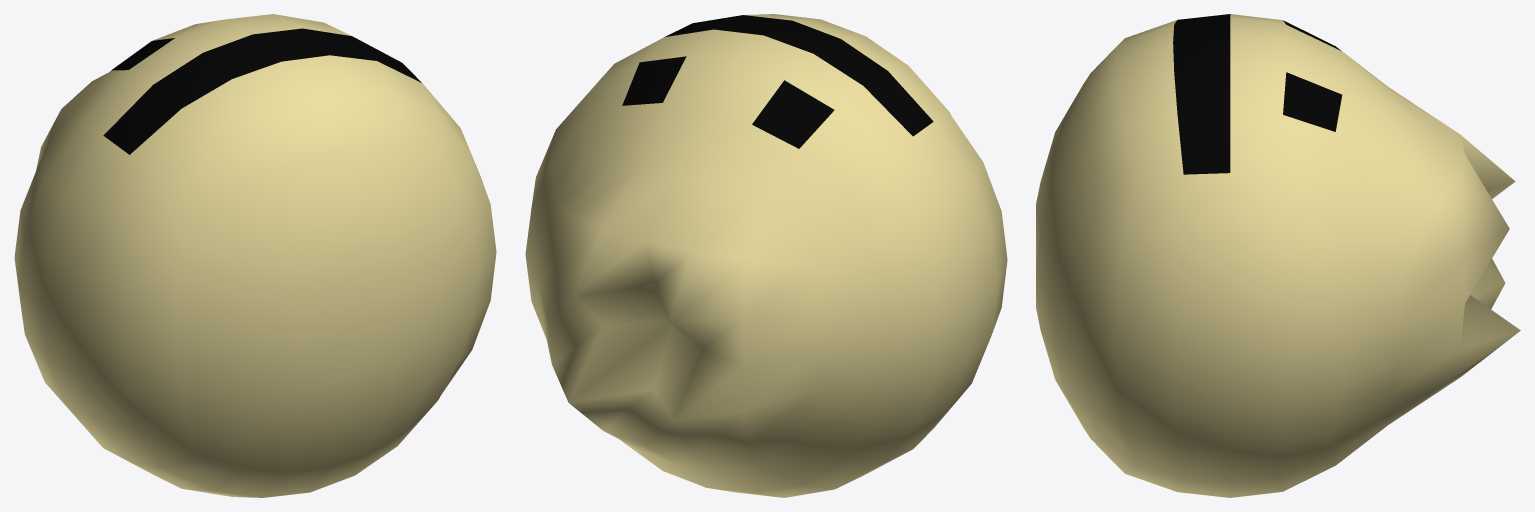
The model's file is Dumpling.fbx.
3 renders of one model, left to right at view 1: azimuth 30°, elevation 25°; view 2: azimuth 150°, elevation 25°; view 3: azimuth 270°, elevation 25°, orthographic.
Parts seen in each view (by area): view 1: Roundcube; view 2: Roundcube; view 3: Roundcube.
Part boxes in pixels (x1,y1,x2,y2): Roundcube: [14, 14, 496, 497]; Roundcube: [525, 14, 1007, 497]; Roundcube: [1036, 14, 1520, 497].
Size of the model in its own units: 5.04 by 5.04 by 5.04.
